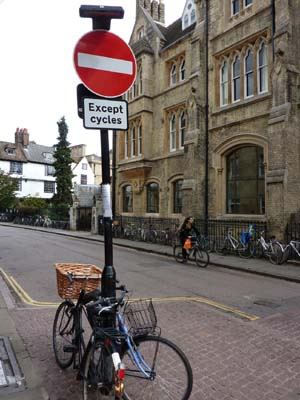No_entry: (72, 29, 138, 99)
